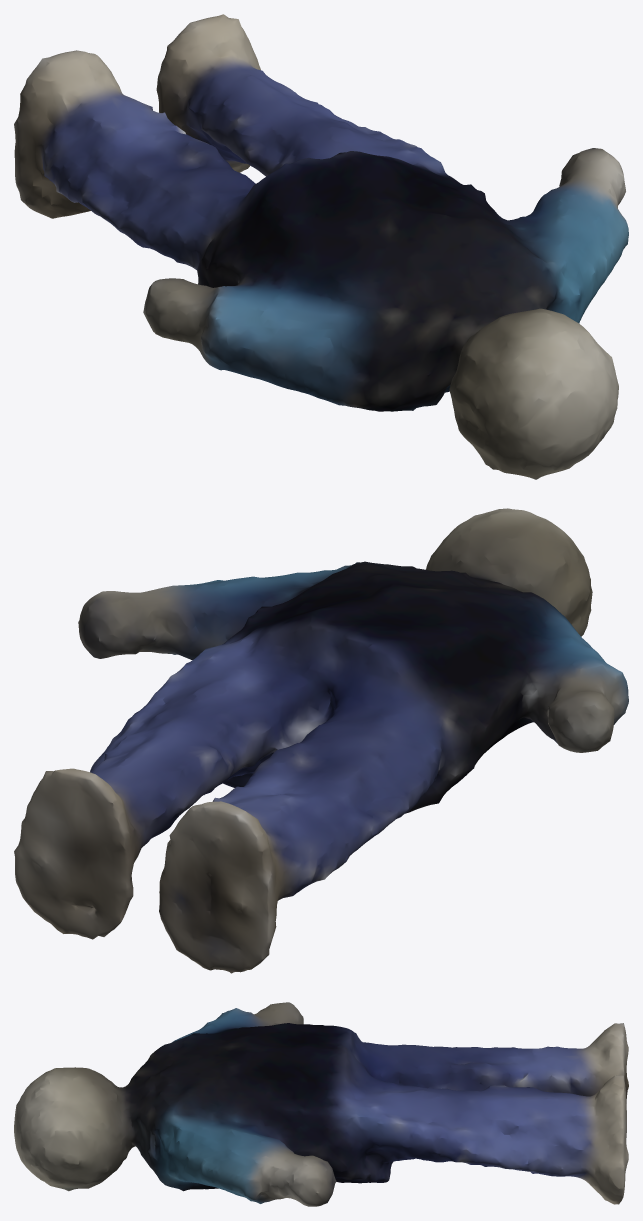
File: grandfather.glb
3 views of the same model, one above another, from view 1: azimuth 30°, elevation 25°; view 2: azimuth 150°, elevation 25°; view 3: azimuth 270°, elevation 25° (orthographic). The views are drawn at different scales.
Bounding box in the file's own units: 0.6804 × 0.2359 × 0.9958.
